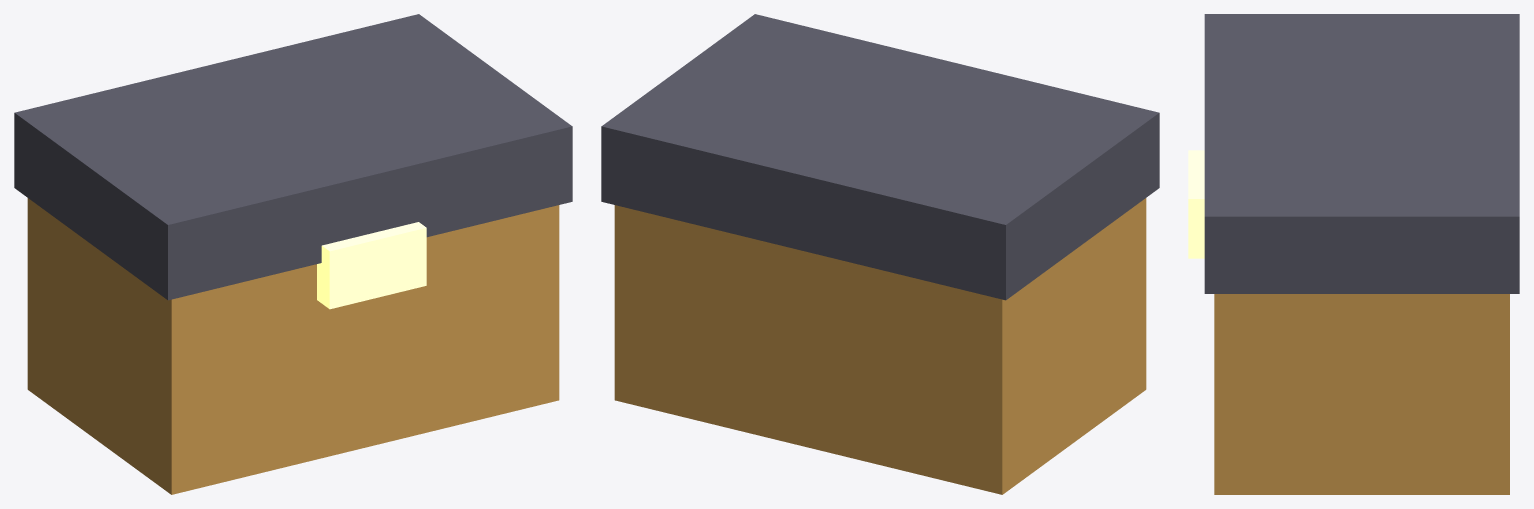
Rendered from scifi_chest.glb.
3 renders of one model, left to right at view 1: azimuth 30°, elevation 25°; view 2: azimuth 150°, elevation 25°; view 3: azimuth 270°, elevation 25°, orthographic. The views are drawn at different scales.
Visible parts, largest first — view 1: ChestLid, ChestBase, ChestLock; view 2: ChestBase, ChestLid; view 3: ChestLid, ChestBase, ChestLock.
Part boxes in pixels (<box>): ChestLid: <box>14,14,572,300</box>; ChestBase: <box>27,198,559,494</box>; ChestLock: <box>317,222,426,309</box>; ChestBase: <box>614,198,1146,494</box>; ChestLid: <box>601,14,1159,300</box>; ChestLid: <box>1204,14,1519,293</box>; ChestBase: <box>1214,294,1509,494</box>; ChestLock: <box>1188,150,1204,258</box>.
Size of the model in its own units: 1.46 by 0.95 by 1.01.
